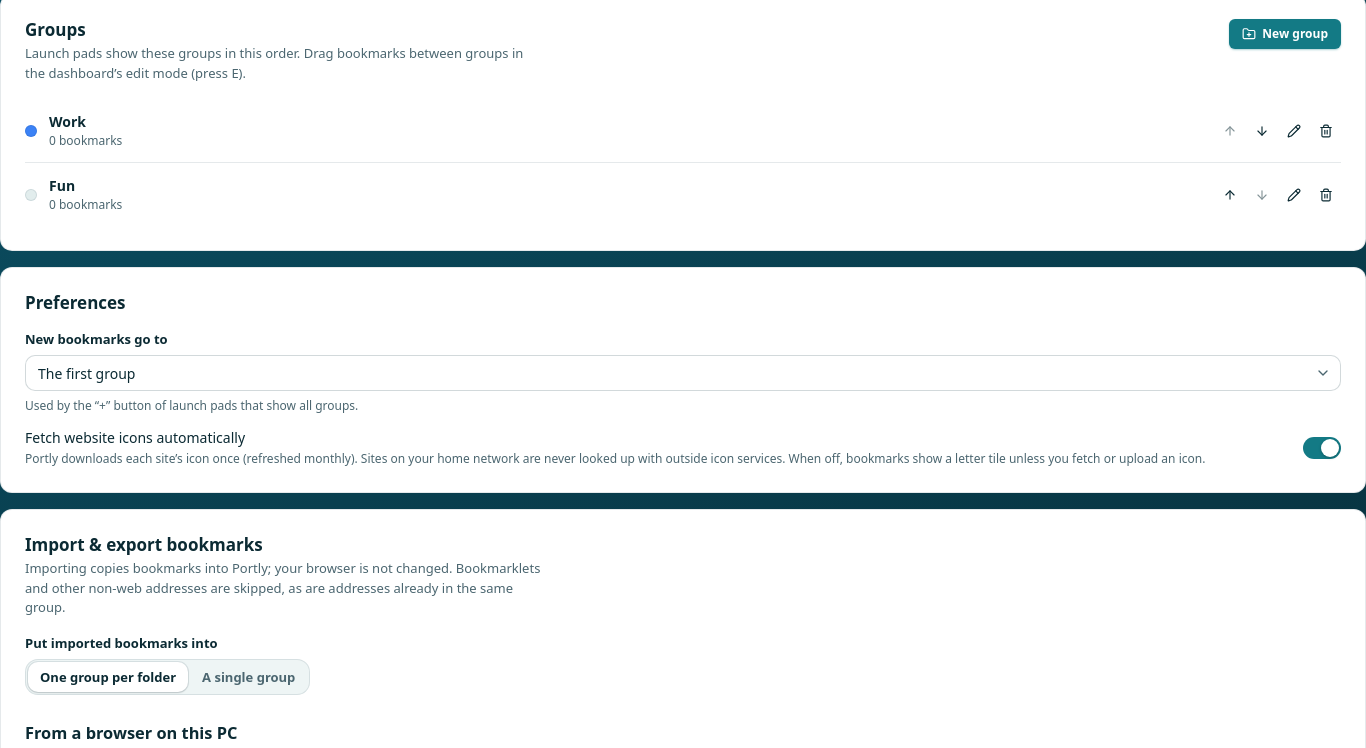
Test: Settings → Bookmarks › imports from a detected browser profile with the chosen strategy and shows the report
Click the radio button labelled "A single group".
click(249, 677)  # box [190,662,307,692]
(page scrolled)
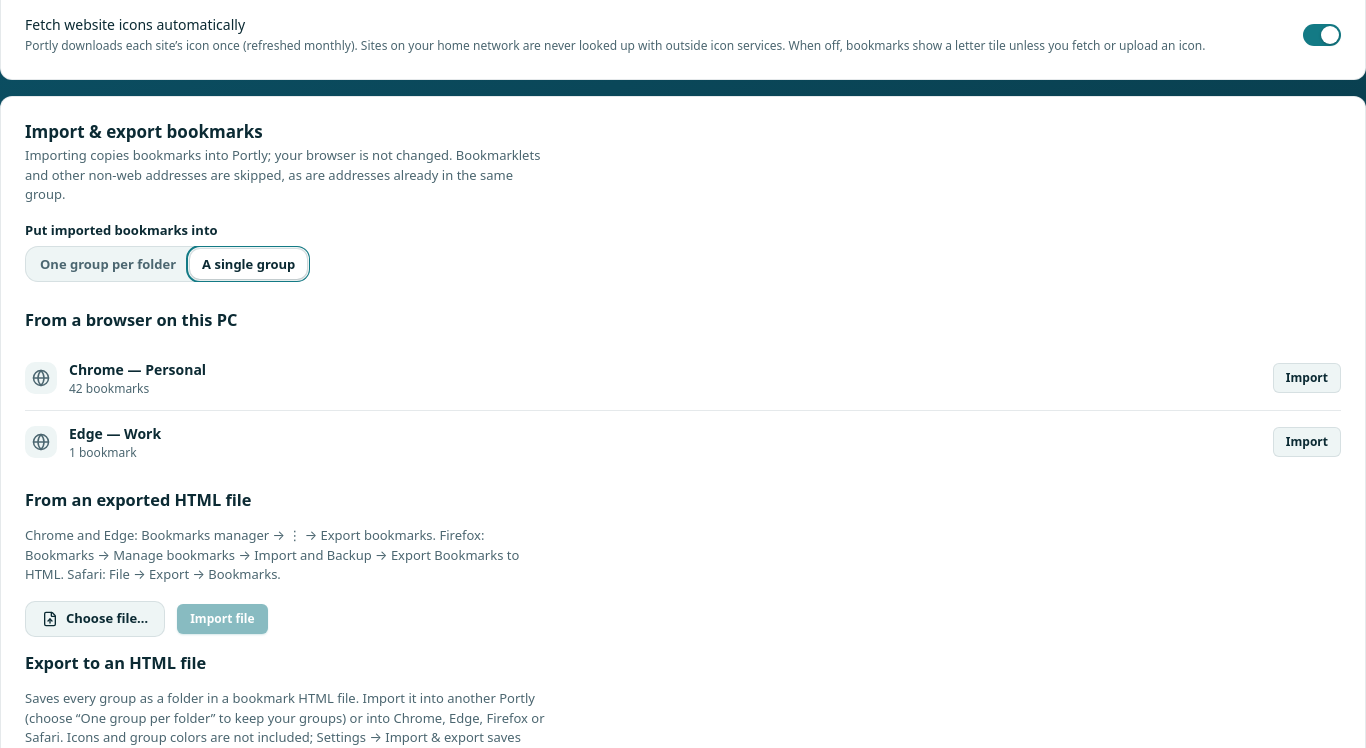
Click the button with aria-label "Import from Chrome — Personal".
click(1307, 378)  # box [1273,363,1341,393]
(page scrolled)
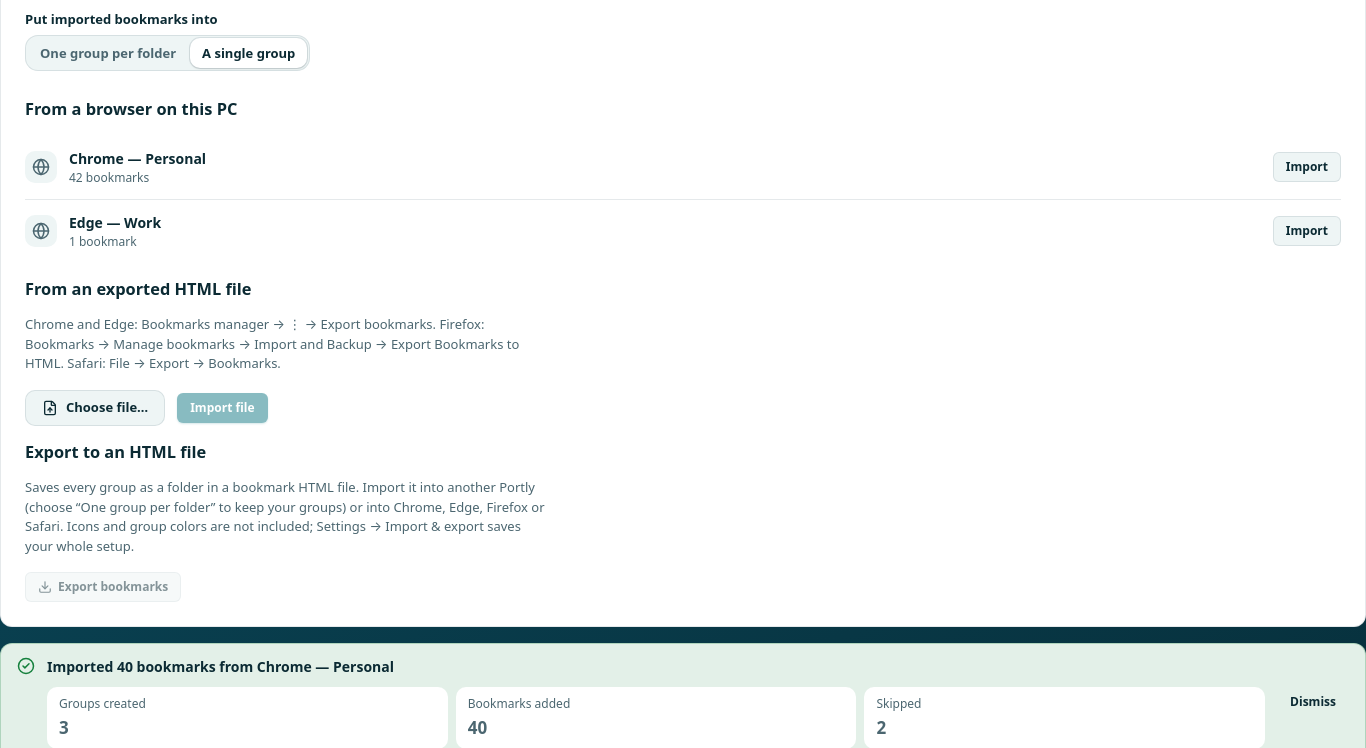
Check: the text "40" is shown, box [468,716,487,739]
Check: the text "Imported 40 bookmarks from Chrome — Personal" is shown, box [47,657,394,676]
